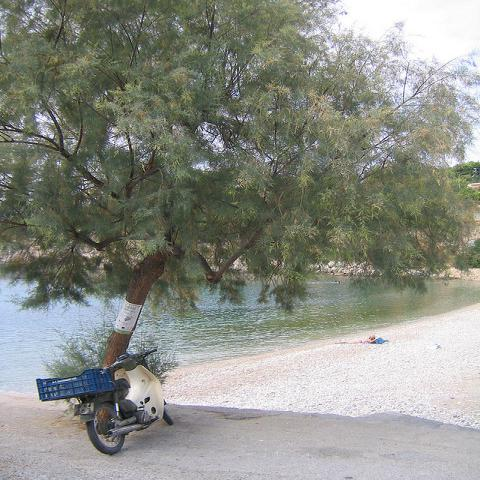motorcycle: (78, 347, 174, 455)
